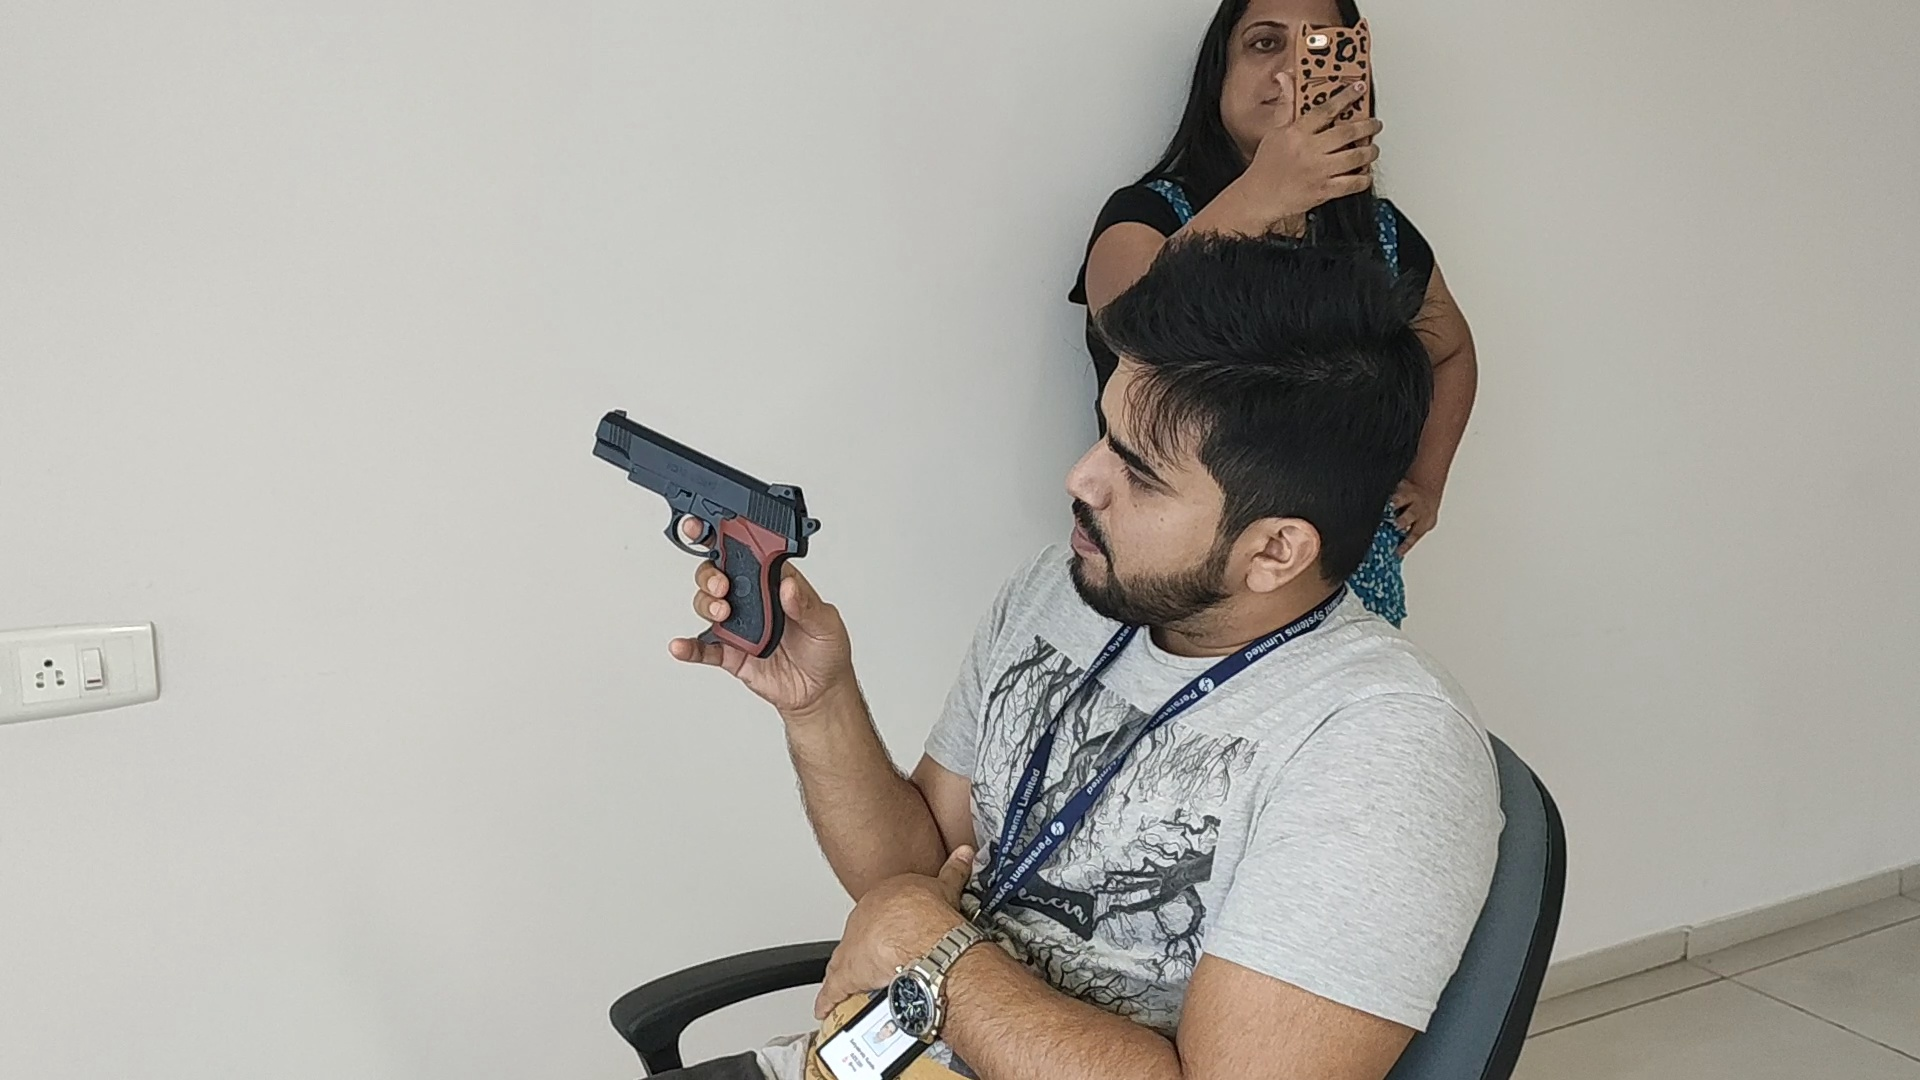gun: (592, 410, 822, 556)
